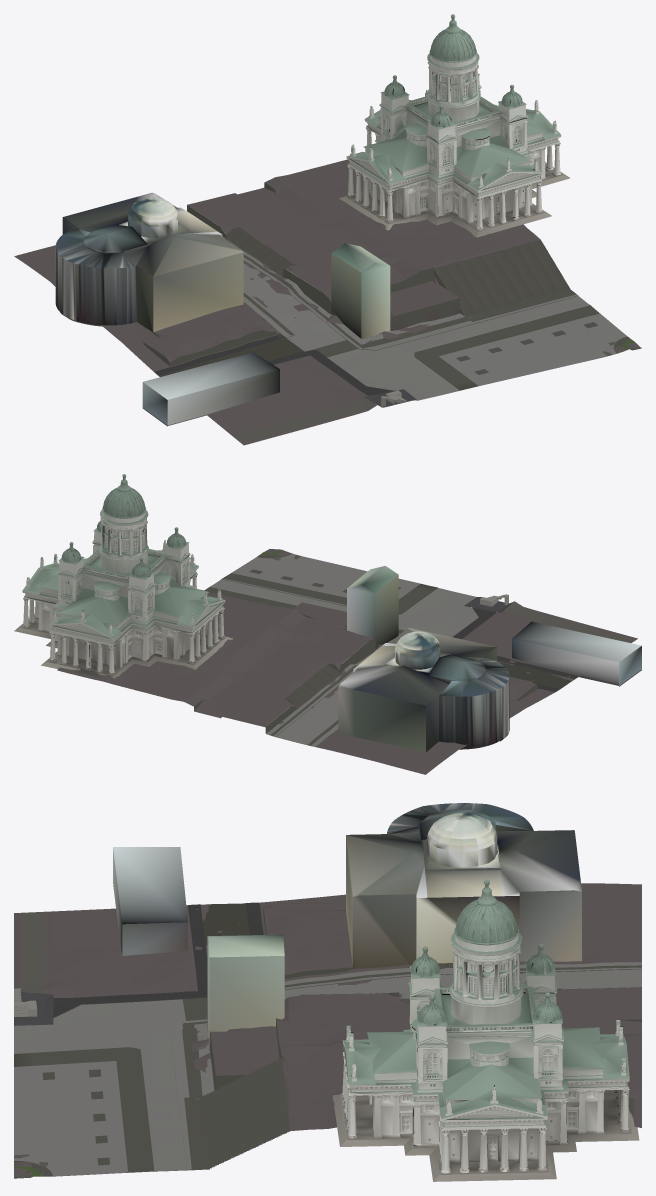
3 views of the same model, one above another, from view 1: azimuth 30°, elevation 25°; view 2: azimuth 150°, elevation 25°; view 3: azimuth 270°, elevation 25° (orthographic). The views are drawn at different scales.
Visible parts, largest first — view 1: c_m01_m01; view 2: c_m01_m01; view 3: c_m01_m01.
Boxes of the visible parts, x1=… form: c_m01_m01: x1=14, y1=14, x2=641, y2=445; c_m01_m01: x1=14, y1=474, x2=641, y2=774; c_m01_m01: x1=14, y1=803, x2=641, y2=1181.
Bounding box in the file's own units: 167 × 64.89 × 128.
